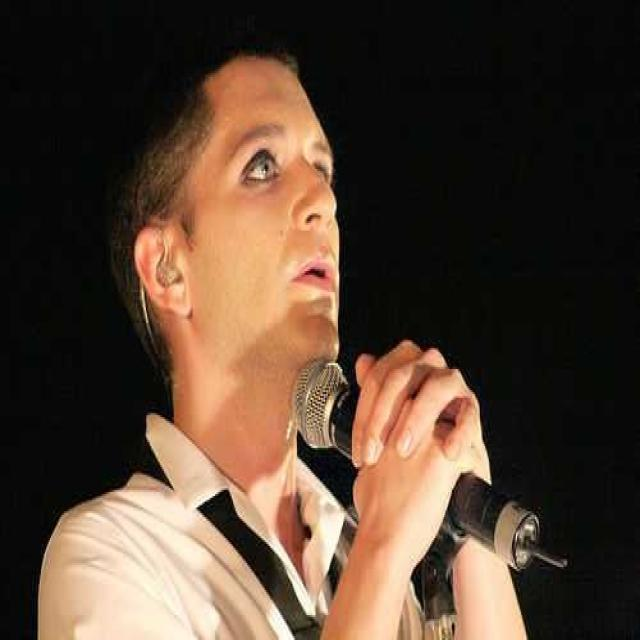microphone: (293, 354, 553, 572)
